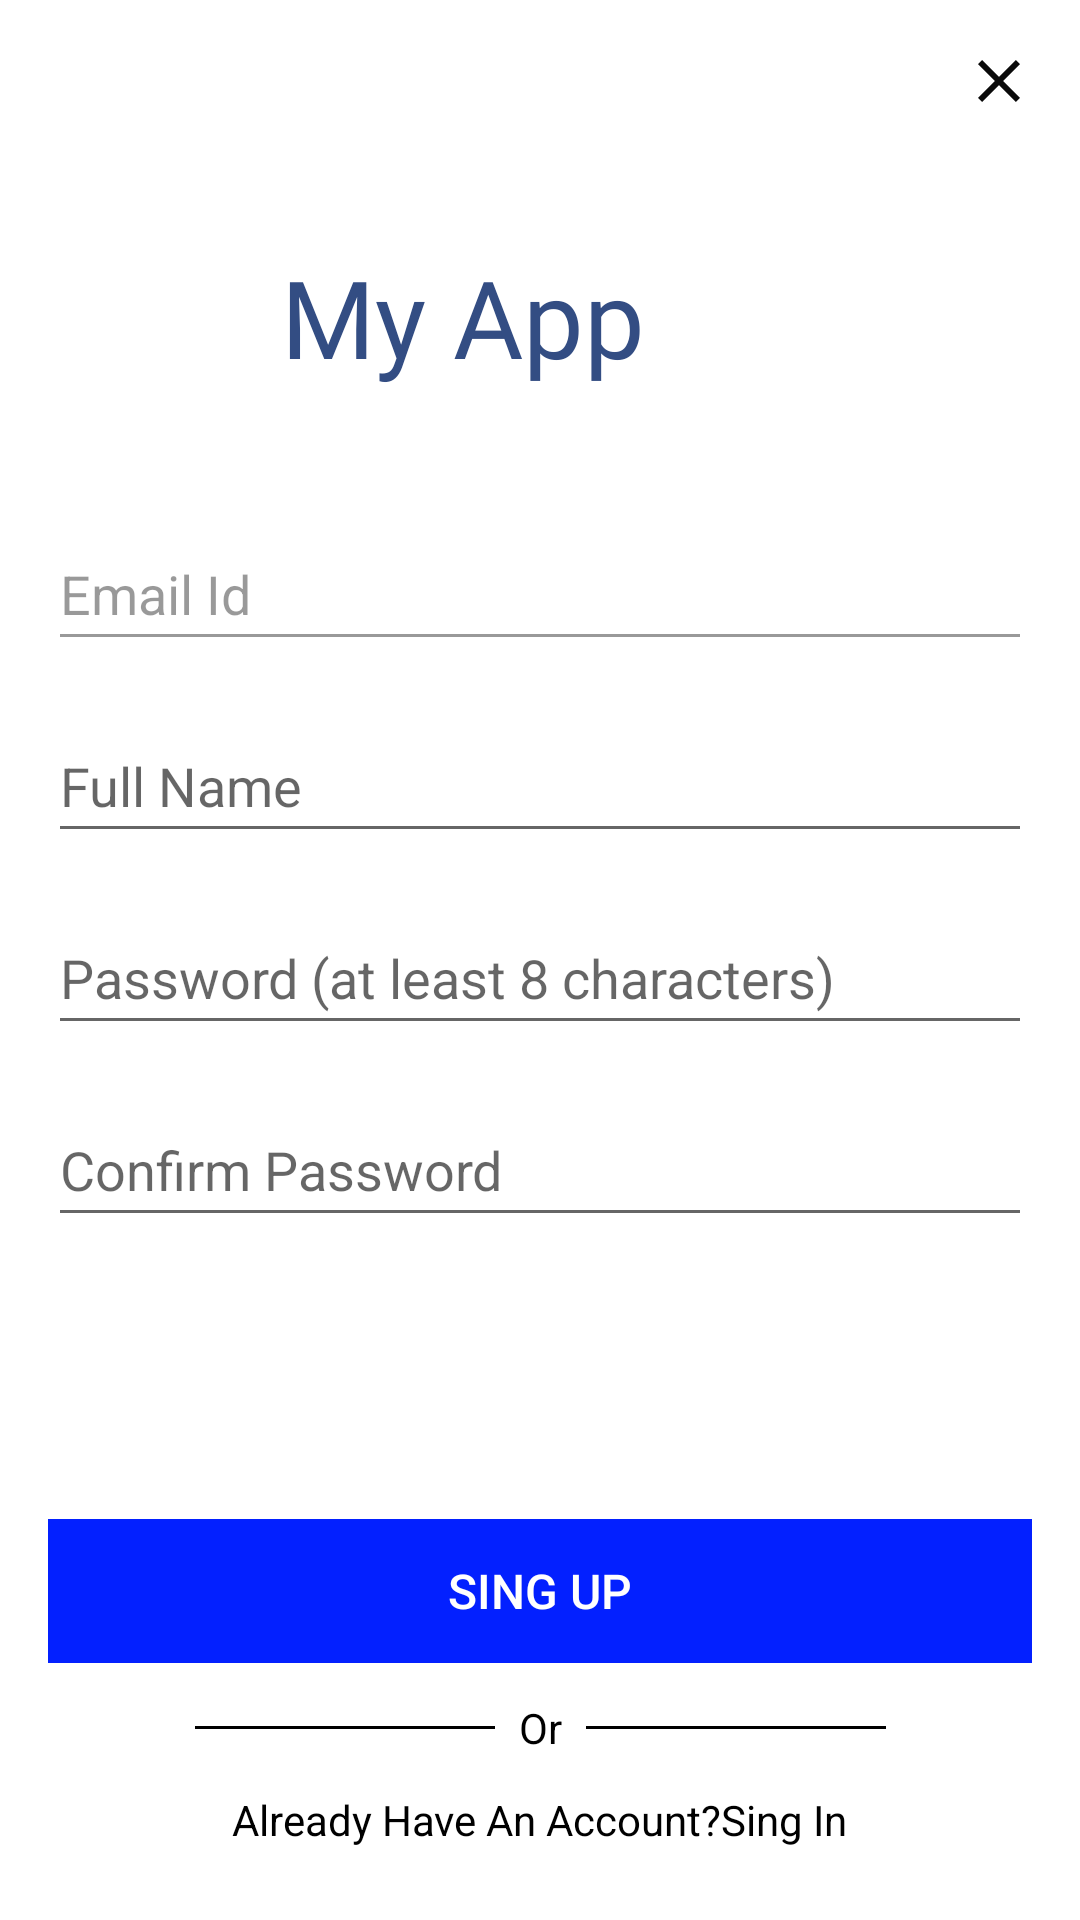

Icon bounding boxes for this 1080 × 1920 phone screenshot, format bbox=[x1, y1, x2, y2]:
close: bbox=[978, 60, 1020, 102]
